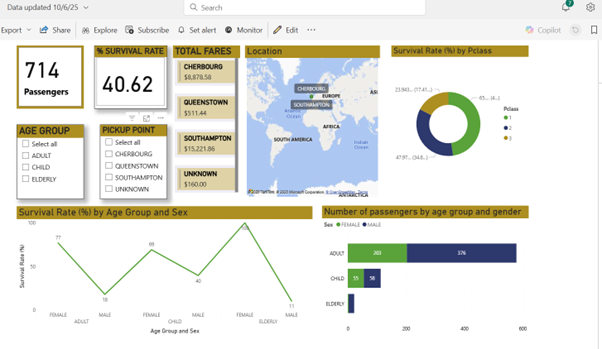

The dashboard page shown, as its layout file describes it:
{"tool":"powerbi","page":{"name":"Page 1","canvas":[1280,720],"ordinal":0},"visuals":[{"type":"cardVisual","title":"%  SURVIVAL RATE","fields":{"Data":["train.Survival Rate (%)"]},"box":[203.4,0,180.6,156.4],"z":0},{"type":"lineChart","fields":{"Category":["train.Age Group","train.Sex"],"Y":["train.Survival Rate (%)"]},"box":[11.4,398.2,732.4,322.8],"z":1000},{"type":"slicer","title":"AGE GROUP","fields":{"Values":["train.Age Group"]},"box":[11.4,196.3,166.4,184.9],"z":2000},{"type":"slicer","title":"PICKUP POINT","fields":{"Values":["train.Pickup Location"]},"box":[217.6,196.3,166.4,184.9],"z":3000},{"type":"barChart","title":"Number of passengers by age group and gender","fields":{"Category":["train.Age Group"],"Y":["CountNonNull(train.PassengerId)"],"Series":["train.Sex"]},"box":[768,396.8,512,322.8],"z":4000},{"type":"cardVisual","title":"# OF PASSENGERS","fields":{"Data":["train.Passengers"]},"box":[11.4,0,166.4,156.4],"z":5000},{"type":"multiRowCard","title":"TOTAL FARES","fields":{"Values":["train.Pickup Location","Sum(train.Fare)"]},"box":[398.2,0,166.4,381.2],"z":6000},{"type":"donutChart","fields":{"Category":["train.Pclass"],"Y":["train.Survival Rate (%)"]},"box":[939.7,0,339.9,366.6],"z":7000},{"type":"map","title":"Location","fields":{"Category":["train.Pickup Location"]},"box":[576.7,0,334.6,380.9],"z":8000}]}

Visuals, with their boxes on the page's 1280x720 design canvas (x1, y1, x2, y2). These are canvas units, not pixel positions in the 602x349 screenshot, which may show the page scaled, cropped or inside an application window:
"%  SURVIVAL RATE" cardVisual: [left=203, top=0, right=384, bottom=156]
lineChart - train.Age Group x train.Sex: [left=11, top=398, right=744, bottom=721]
"AGE GROUP" slicer: [left=11, top=196, right=178, bottom=381]
"PICKUP POINT" slicer: [left=218, top=196, right=384, bottom=381]
"Number of passengers by age group and gender" barChart: [left=768, top=397, right=1280, bottom=720]
"# OF PASSENGERS" cardVisual: [left=11, top=0, right=178, bottom=156]
"TOTAL FARES" multiRowCard: [left=398, top=0, right=565, bottom=381]
donutChart - train.Pclass x train.Survival Rate (%): [left=940, top=0, right=1280, bottom=367]
"Location" map: [left=577, top=0, right=911, bottom=381]
